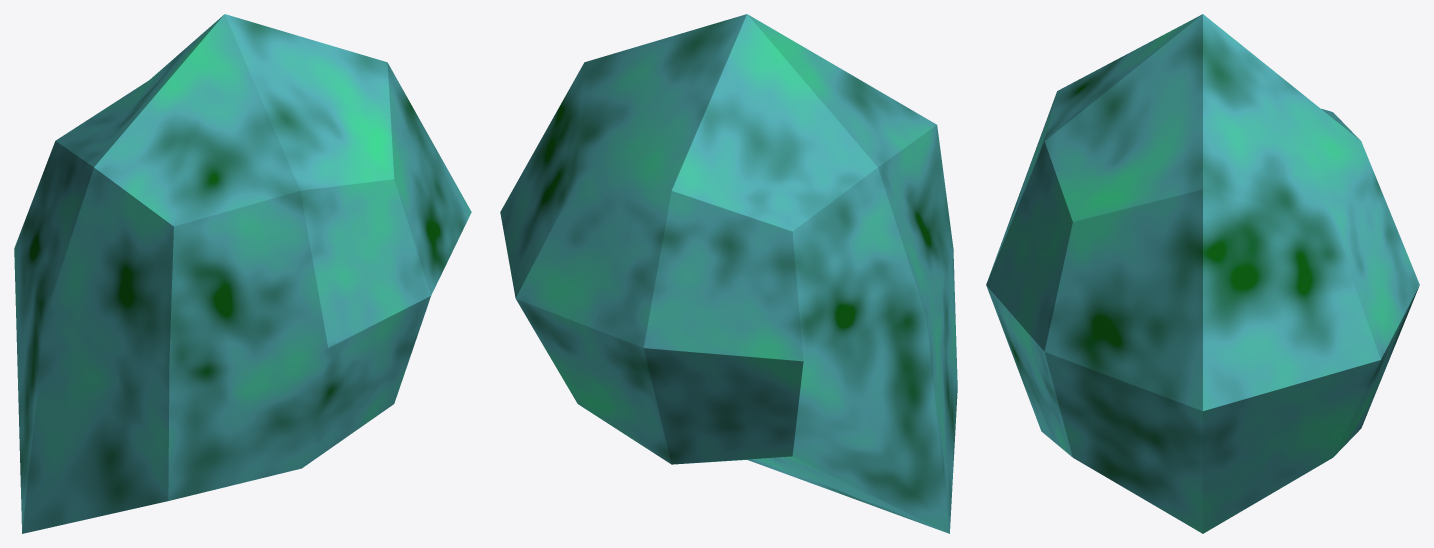
File: GreenGem.fbx
The picture shows the model from 3 angles, left to right: view 1: azimuth 30°, elevation 25°; view 2: azimuth 150°, elevation 25°; view 3: azimuth 270°, elevation 25°; orthographic projection. The views are drawn at different scales.
Parts seen in each view (by area): view 1: Cube.004; view 2: Cube.004; view 3: Cube.004.
Boxes of the visible parts, <box> form: Cube.004: <box>14,14,471,533</box>; Cube.004: <box>500,14,957,533</box>; Cube.004: <box>986,14,1419,533</box>.
Size of the model in its own units: 0.1769 by 0.1769 by 0.141.
1 material, 1 textured.
